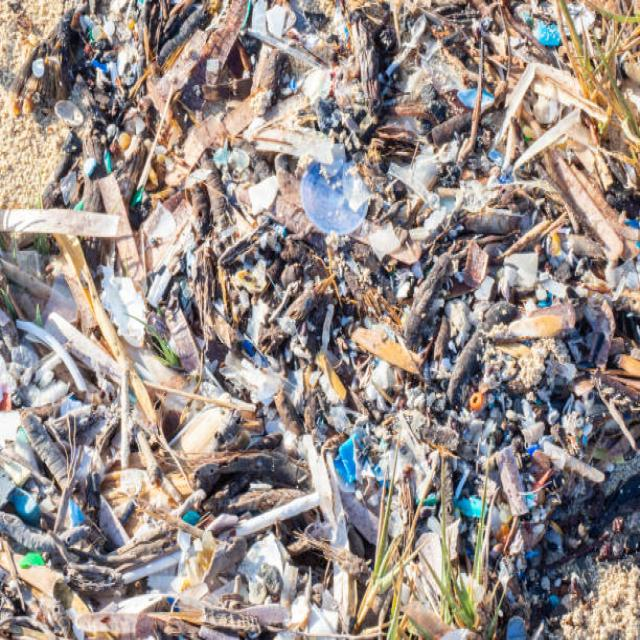trash: (1, 14, 603, 618)
